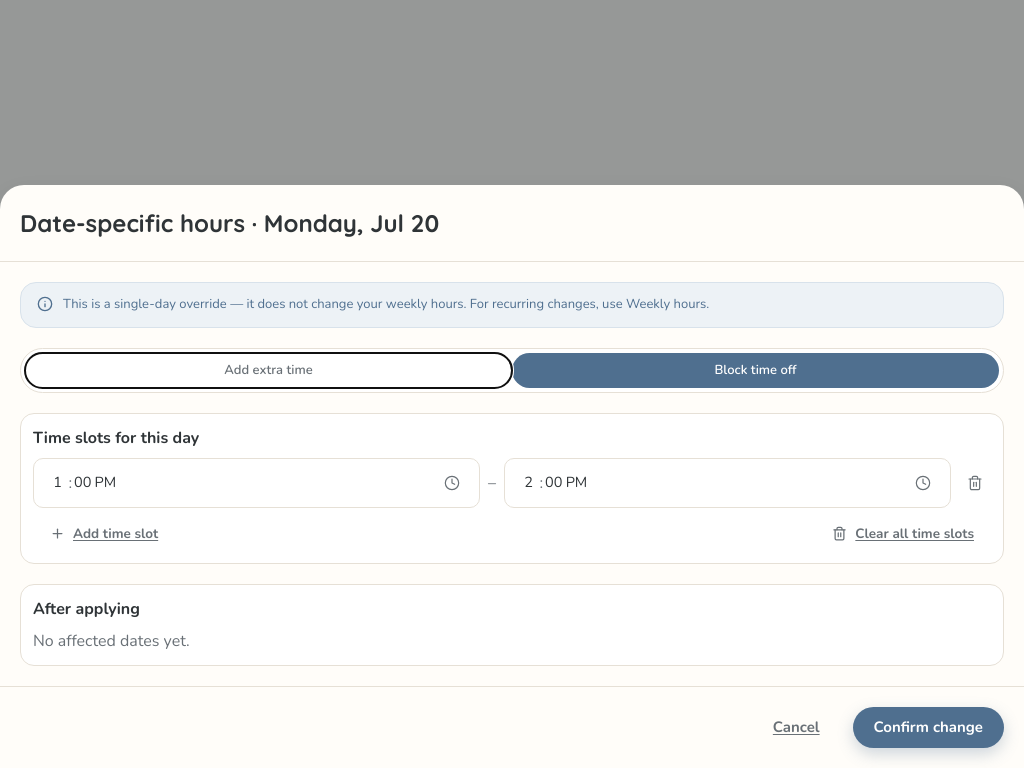
Test case: DateOverrideModal — a replace 422 keeps the modal open › a replace 422 keeps the modal open and surfaces the message (no partial local wipe)
Click the button "Confirm change" at (928, 728), box [853,707,1004,748]
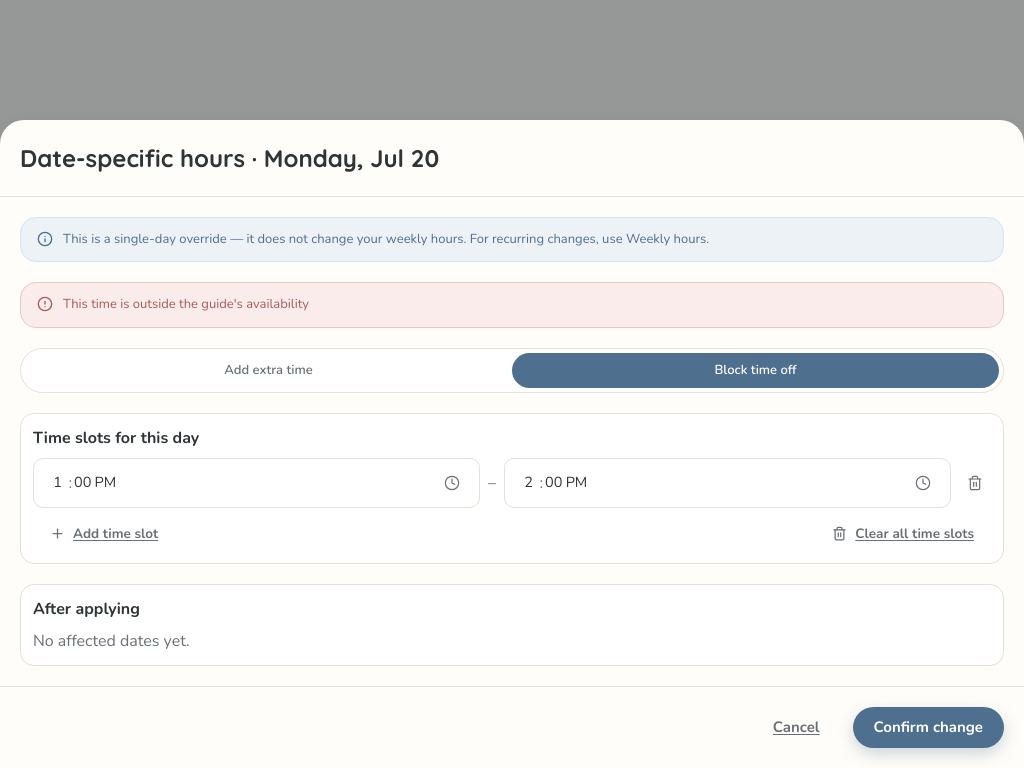
Expected: the element named "Time slot 1" is shown, [33,458,991,508]
Result: the text "This time is outside the guide's availability" is shown at [63,295,309,313]
